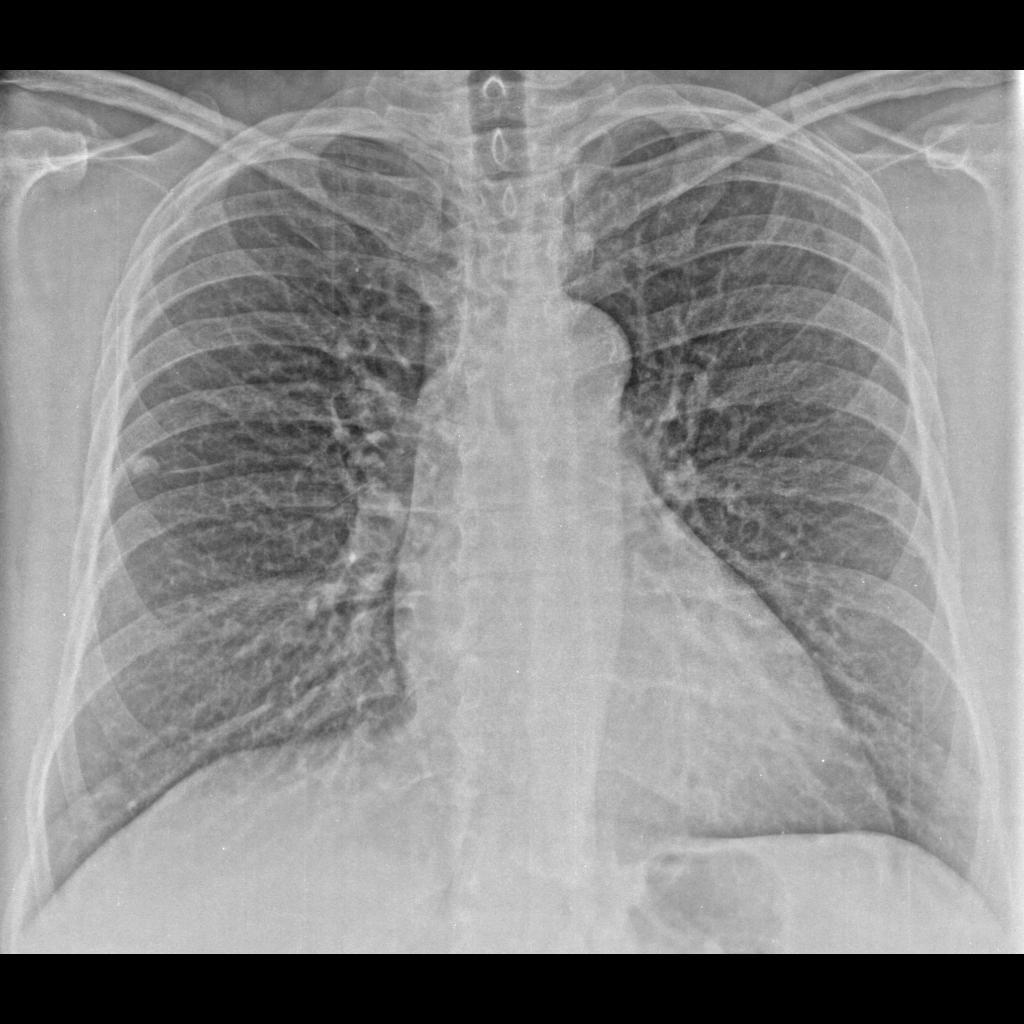Nodule: (129, 452, 173, 493)
